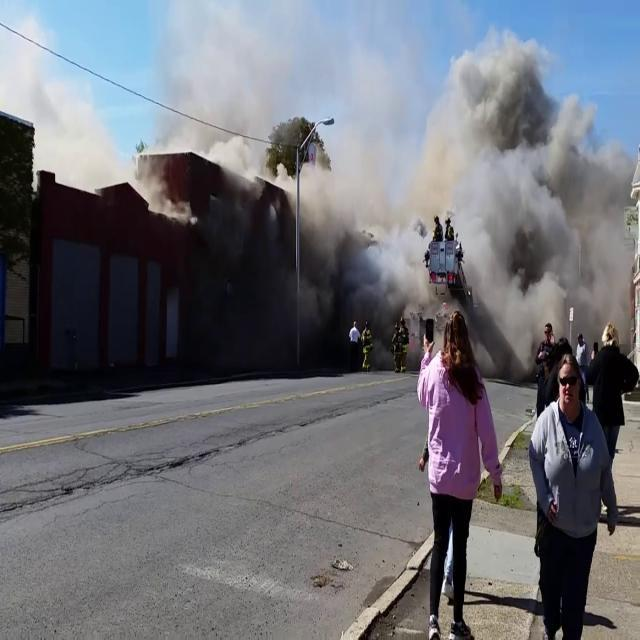Smoke: (102, 7, 630, 347), (407, 18, 636, 340)
